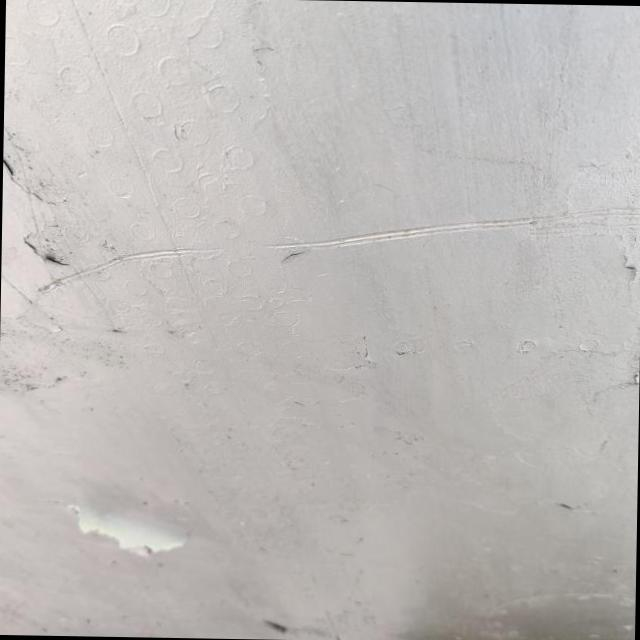Paint-off: (68, 505, 187, 558)
Scratch: (264, 208, 640, 253), (38, 248, 223, 294)
